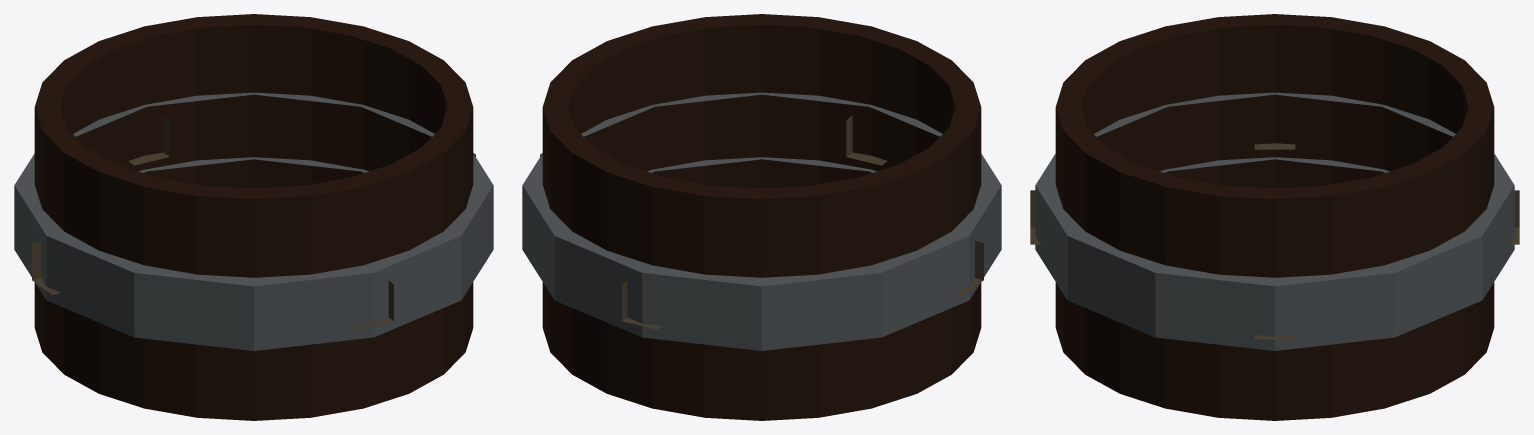
Rendered from wristband_LOD1.obj.
3 views of the same model, side by side, from view 1: azimuth 30°, elevation 25°; view 2: azimuth 150°, elevation 25°; view 3: azimuth 270°, elevation 25° (orthographic).
Bounding box in the file's own units: 0.096 × 0.048 × 0.096.
